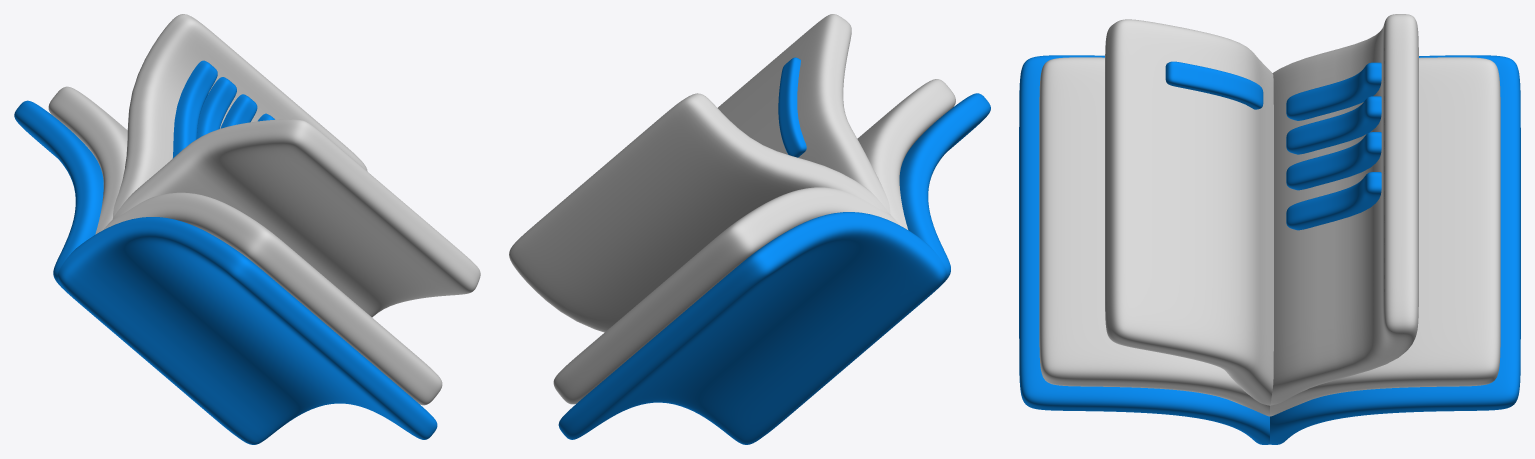
Rendered from book.glb.
3 renders of one model, left to right at view 1: azimuth 30°, elevation 25°; view 2: azimuth 150°, elevation 25°; view 3: azimuth 270°, elevation 25°, orthographic. The views are drawn at different scales.
Parts seen in each view (by area): view 1: Cube.001, Cube.005, Cube.003, Cube.006, Cube, Cube.002, Cube.004, Cube.007, Cube.008; view 2: Cube, Cube.006, Cube.002, Cube.005, Cube.001, Cube.003, Cube.011; view 3: Cube.005, Cube.006, Cube.002, Cube.003, Cube, Cube.001, Cube.007, Cube.008, Cube.009, Cube.004, Cube.011.
Part boxes in pixels (x1=…): Cube.001: x1=57, y1=217, x2=437, y2=444; Cube.005: x1=113, y1=119, x2=480, y2=317; Cube.003: x1=103, y1=192, x2=442, y2=405; Cube.006: x1=112, y1=14, x2=367, y2=218; Cube: x1=14, y1=100, x2=233, y2=434; Cube.002: x1=48, y1=86, x2=127, y2=234; Cube.004: x1=172, y1=60, x2=217, y2=158; Cube.007: x1=197, y1=77, x2=236, y2=138; Cube.008: x1=220, y1=94, x2=257, y2=128; Cube: x1=558, y1=212, x2=946, y2=444; Cube.006: x1=509, y1=93, x2=889, y2=332; Cube.002: x1=553, y1=187, x2=900, y2=404; Cube.005: x1=718, y1=14, x2=890, y2=213; Cube.001: x1=767, y1=93, x2=990, y2=433; Cube.003: x1=857, y1=79, x2=955, y2=229; Cube.011: x1=778, y1=57, x2=806, y2=157; Cube.005: x1=1105, y1=19, x2=1273, y2=405; Cube.006: x1=1270, y1=14, x2=1418, y2=405; Cube.002: x1=1270, y1=57, x2=1500, y2=416; Cube.003: x1=1039, y1=57, x2=1269, y2=416; Cube: x1=1270, y1=55, x2=1520, y2=444; Cube.001: x1=1019, y1=55, x2=1269, y2=444; Cube.007: x1=1286, y1=96, x2=1381, y2=154; Cube.008: x1=1286, y1=132, x2=1381, y2=190; Cube.009: x1=1286, y1=172, x2=1381, y2=230; Cube.004: x1=1286, y1=62, x2=1381, y2=120; Cube.011: x1=1165, y1=61, x2=1263, y2=109.
Size of the model in its own units: 6.27 by 6.28 by 6.72.
